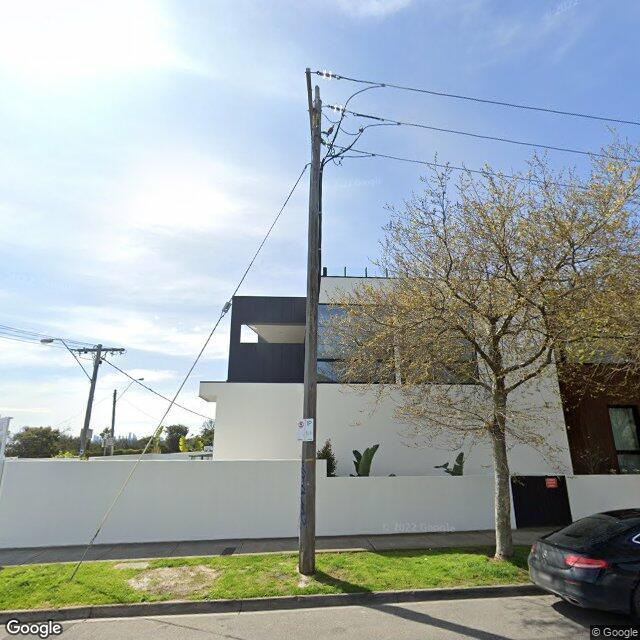HV-transmission: (315, 69, 402, 158)
crossarm: (306, 67, 312, 135), (72, 348, 126, 352)
streetlight: (40, 337, 91, 382), (114, 378, 144, 403)
timber-pole: (298, 85, 322, 575), (80, 344, 102, 455), (111, 389, 116, 455)
